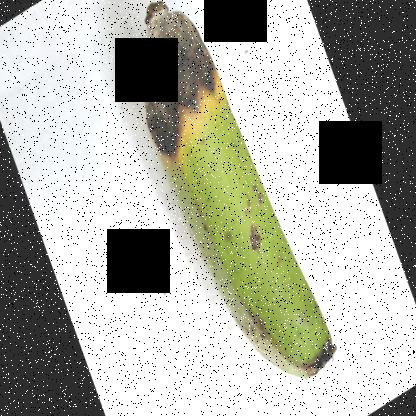rotten: (135, 1, 242, 160)
unripe: (187, 113, 336, 385)
